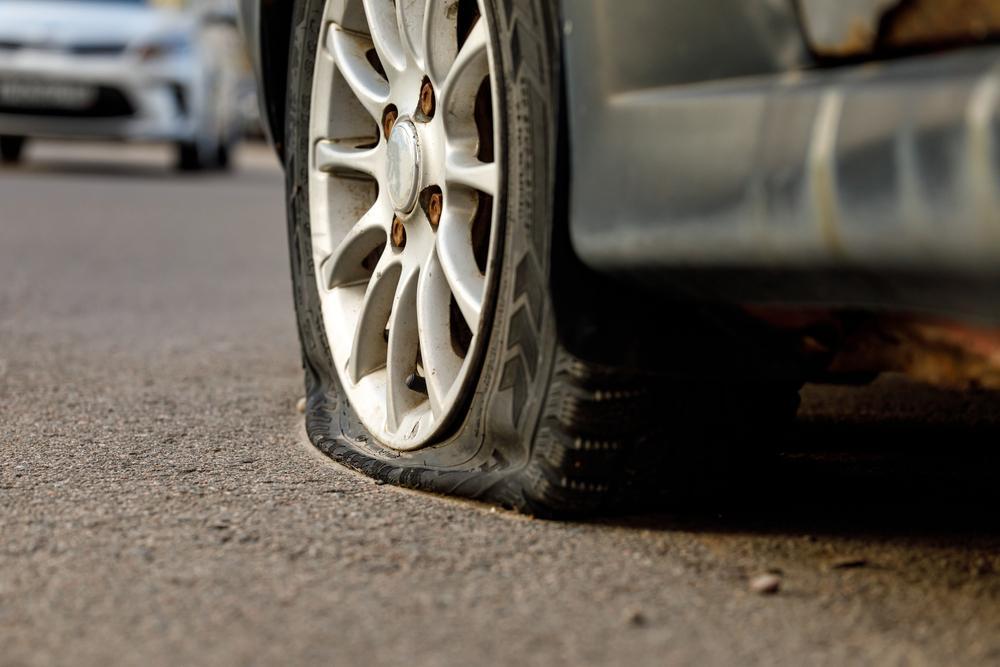tire flat: (284, 0, 661, 512)
